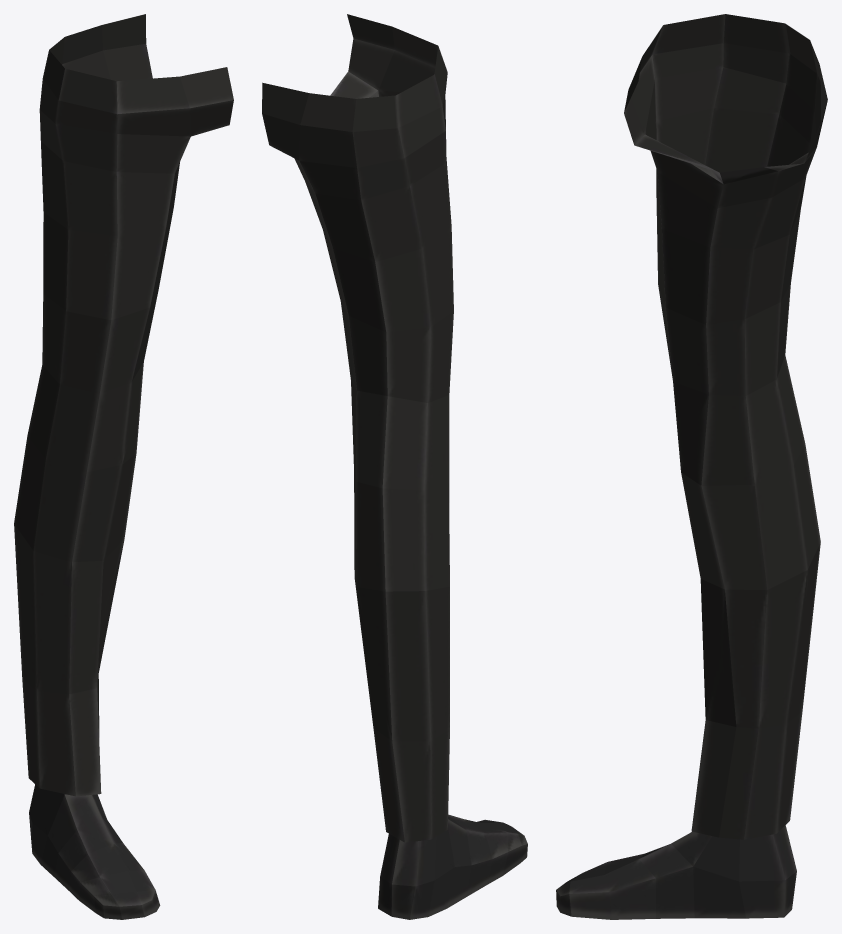
The model's file is piernaDer.obj.
The picture shows the model from 3 angles, left to right: view 1: azimuth 30°, elevation 25°; view 2: azimuth 150°, elevation 25°; view 3: azimuth 270°, elevation 25°; orthographic projection. The views are drawn at different scales.
Visible parts, largest first — view 1: piernaDer; view 2: piernaDer; view 3: piernaDer.
Part boxes in pixels (x1,y1,x2,y2): piernaDer: (14,14,233,919); piernaDer: (262,14,527,919); piernaDer: (556,14,827,919).
Bounding box in the file's own units: 0.1789 × 0.8951 × 0.2465.
Materials: 1 (1 with a texture image).
